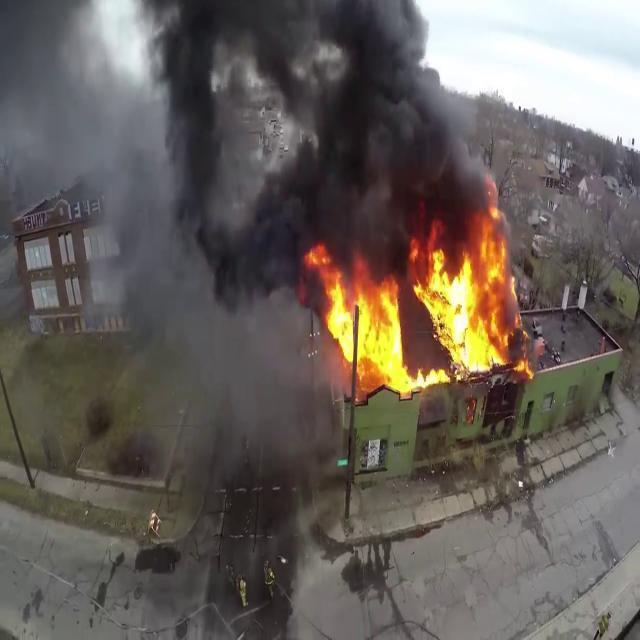Fire: (316, 210, 528, 393)
Smoke: (165, 0, 483, 269), (127, 251, 346, 495), (0, 0, 181, 238)
